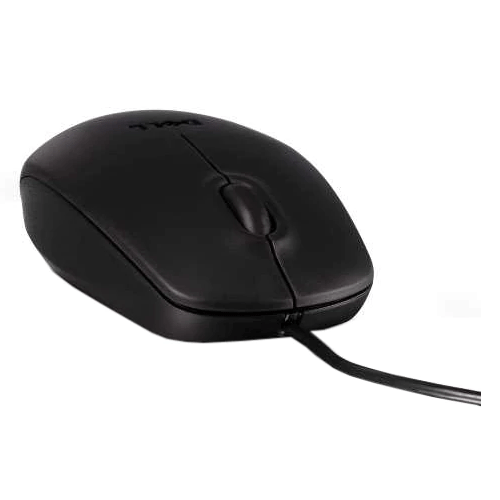dell-mouse-ms116: (17, 100, 490, 416)
